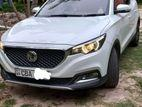car: (1, 0, 140, 91)
